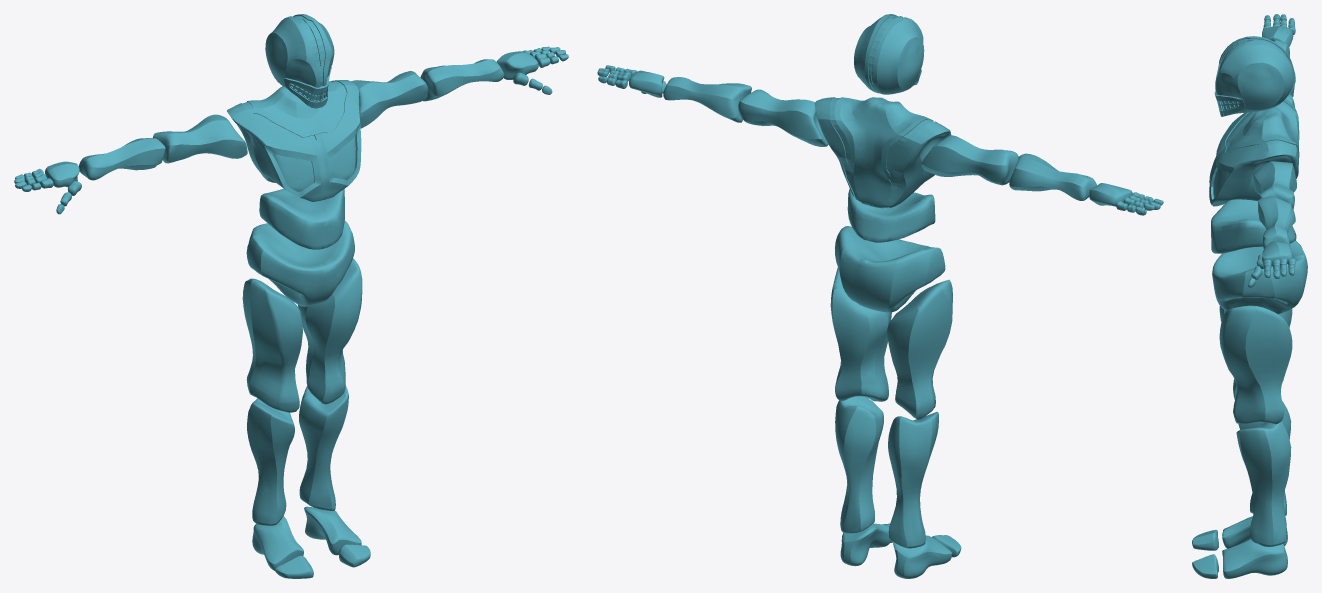
Rendered from anan.fbx.
3 renders of one model, left to right at view 1: azimuth 30°, elevation 25°; view 2: azimuth 150°, elevation 25°; view 3: azimuth 270°, elevation 25°, orthographic. The views are drawn at different scales.
Visible parts, largest first — view 1: Alpha_Surface; view 2: Alpha_Surface; view 3: Alpha_Surface.
Part boxes in pixels (box(x1,y1,x2,y2)): Alpha_Surface: box(14, 14, 568, 578); Alpha_Surface: box(597, 14, 1163, 578); Alpha_Surface: box(1192, 14, 1307, 578).
Size of the model in its own units: 195 by 180 by 36.43.
